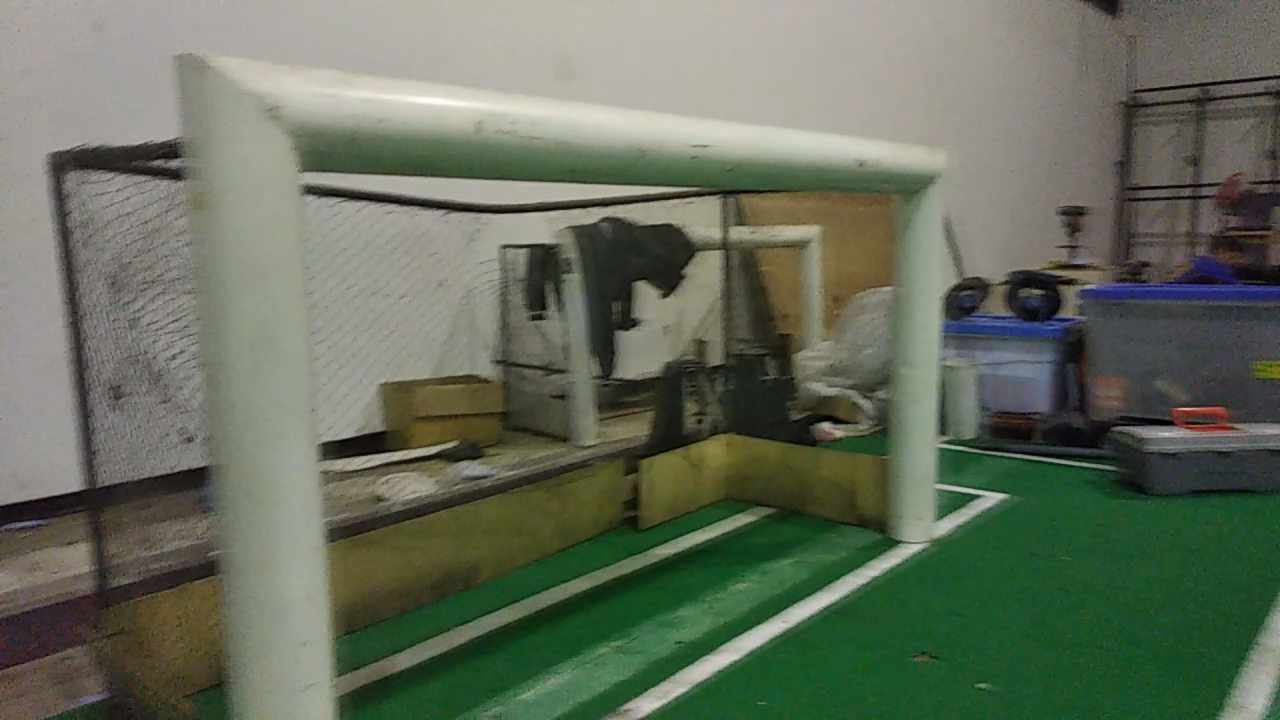gawang: (154, 36, 957, 715)
